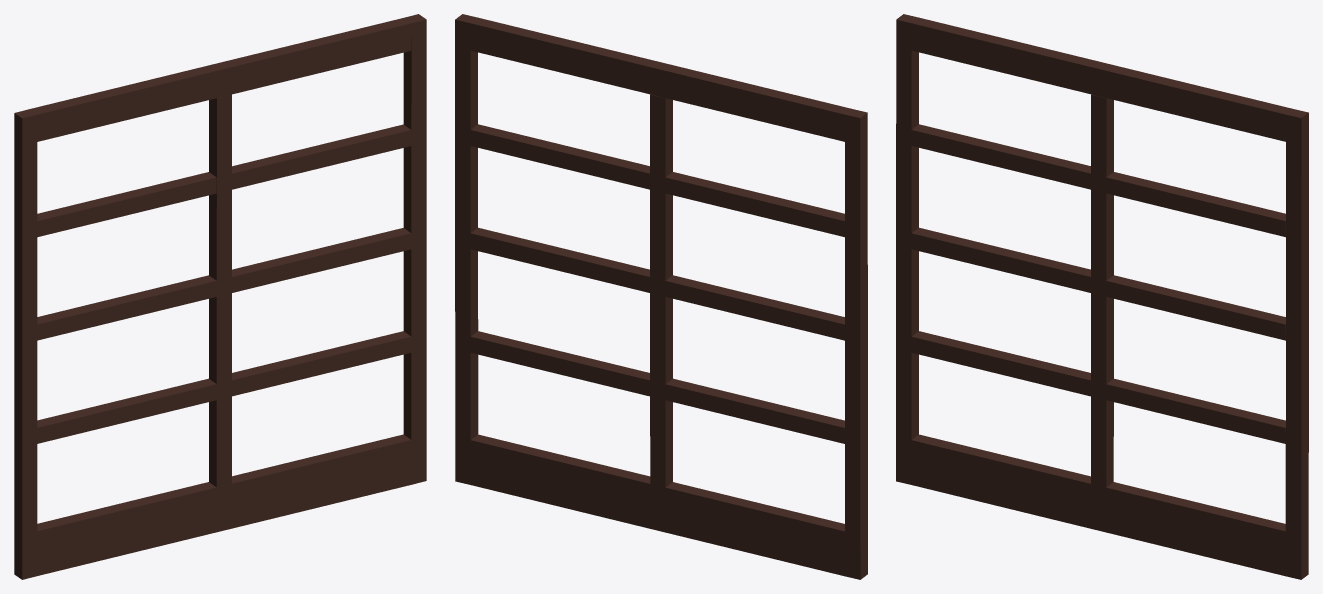
File: Sewer_Grind.fbx
3 views of the same model, side by side, from view 1: azimuth 30°, elevation 25°; view 2: azimuth 150°, elevation 25°; view 3: azimuth 330°, elevation 25° (orthographic).
Visible parts, largest first — view 1: pCube160; view 2: pCube160; view 3: pCube160.
Boxes of the visible parts, x1=… form: pCube160: x1=14, y1=14, x2=426, y2=579; pCube160: x1=455, y1=14, x2=867, y2=579; pCube160: x1=896, y1=14, x2=1308, y2=579.
Size of the model in its own units: 252 by 275 by 8.63.
